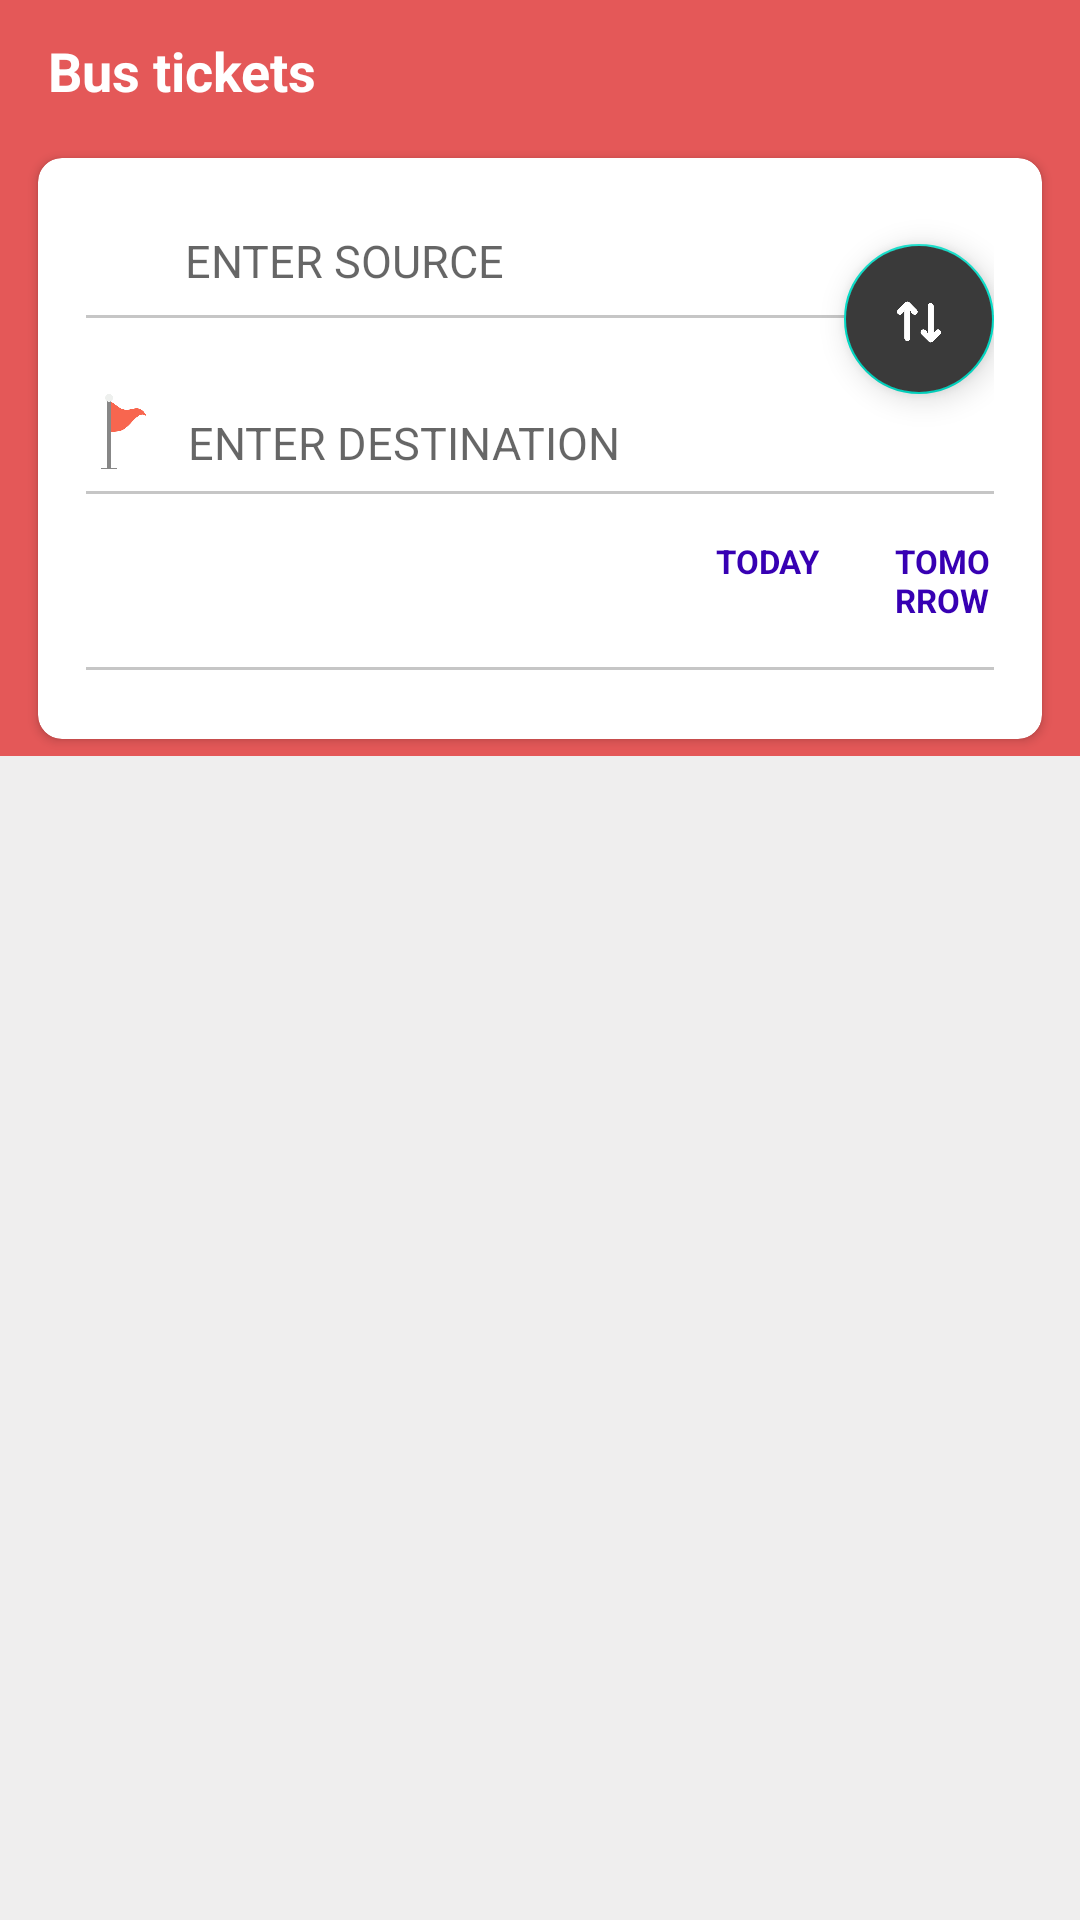

Icons on this 1080w x 1920h Android screen, each with the point to tap as (x=x, y=y):
swap: (x=919, y=319)
